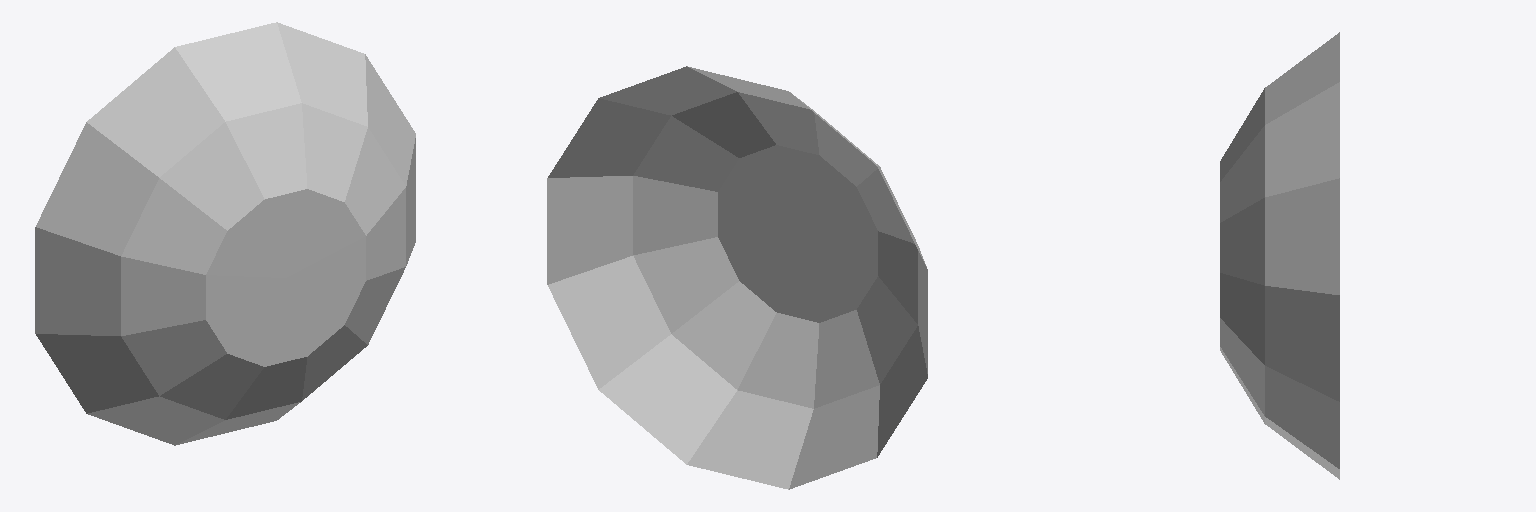
File: TrumpetMute.obj
3 renders of one model, left to right at view 1: azimuth 30°, elevation 25°; view 2: azimuth 150°, elevation 25°; view 3: azimuth 270°, elevation 25°, orthographic.
Visible parts, largest first — view 1: Converted object 0; view 2: Converted object 0; view 3: Converted object 0.
Part boxes in pixels (left/top/right/bottom): Converted object 0: left=35, top=22, right=415, bottom=445; Converted object 0: left=547, top=66, right=927, bottom=489; Converted object 0: left=1220, top=32, right=1339, bottom=479.
Size of the model in its own units: 2.98 by 2.98 by 0.8163.